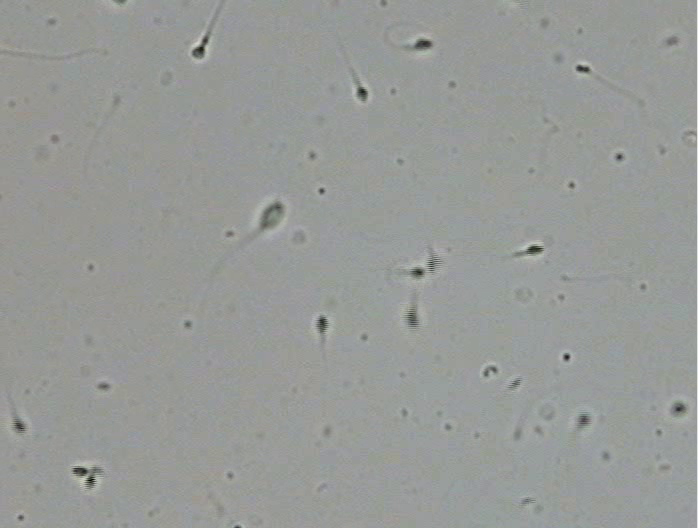S: (260, 202, 284, 228), (403, 308, 420, 330), (426, 253, 442, 273), (315, 315, 329, 334), (355, 85, 369, 103), (11, 418, 26, 434), (577, 412, 591, 428), (71, 465, 88, 478), (526, 244, 544, 256), (414, 39, 432, 50), (84, 475, 97, 490), (192, 45, 205, 59), (672, 403, 686, 415), (409, 267, 424, 278), (575, 64, 591, 73)
